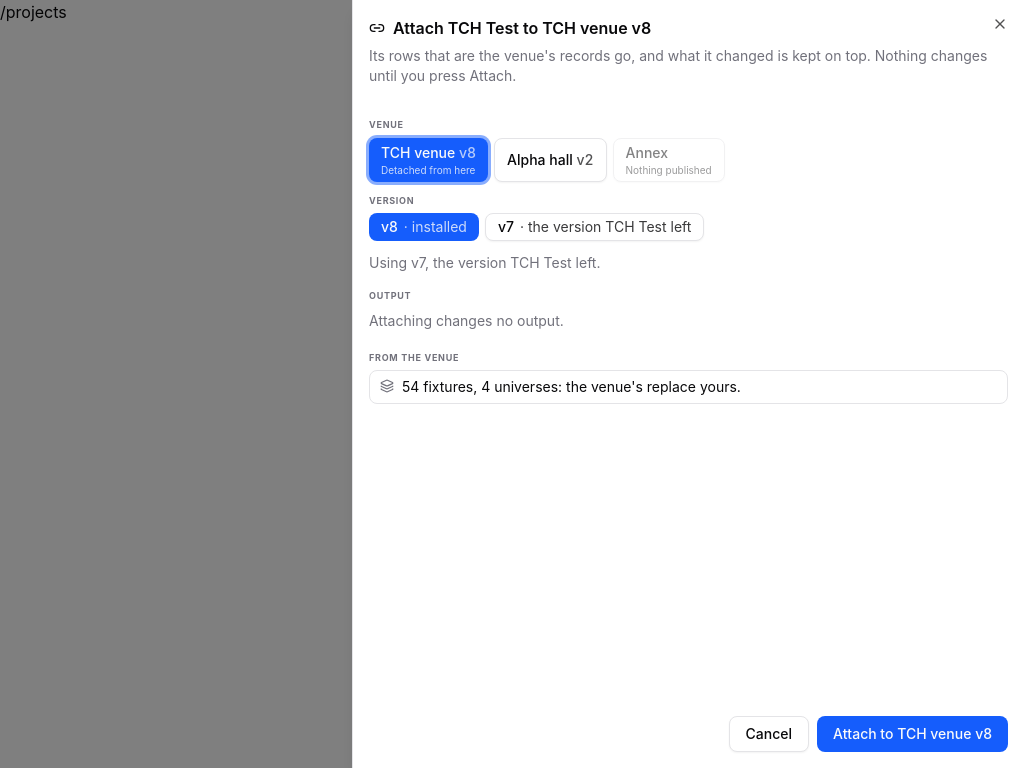
Test: the pick › reviews the origin’s version when it is picked
This screenshot has width=1024, height=768.
Click the radio button labelled "v7 · the version TCH Test left" at (595, 227), box left=485, top=213, right=704, bottom=241
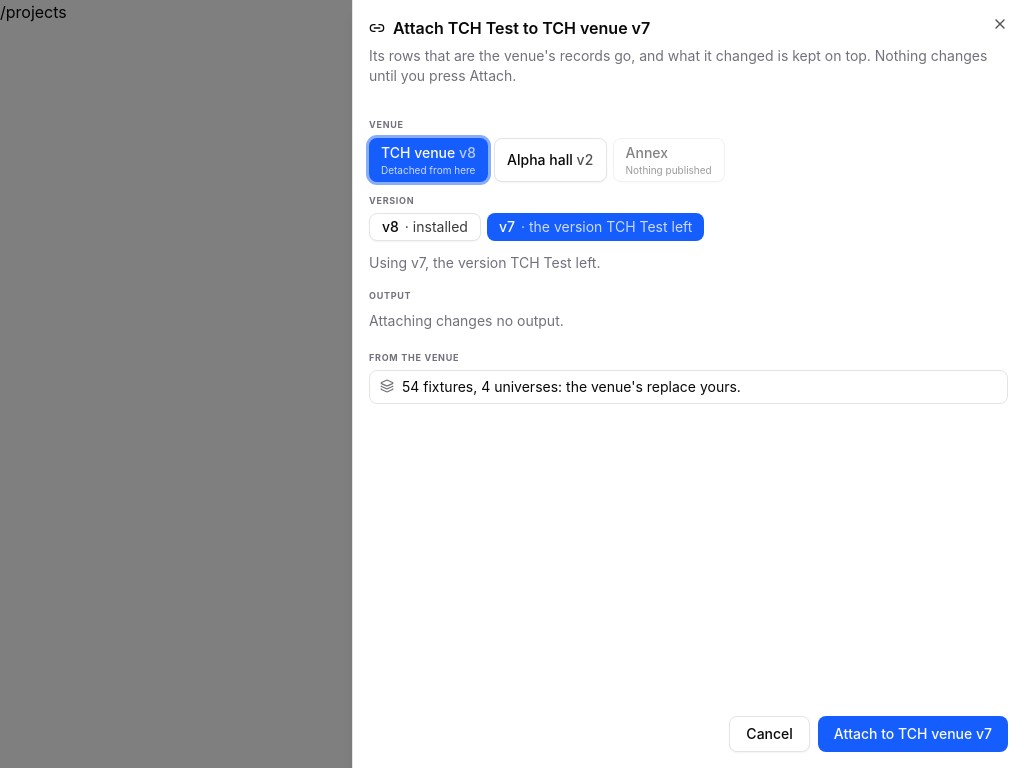
Expected: the button "Attach to TCH venue v7" is shown, left=818, top=716, right=1008, bottom=752
